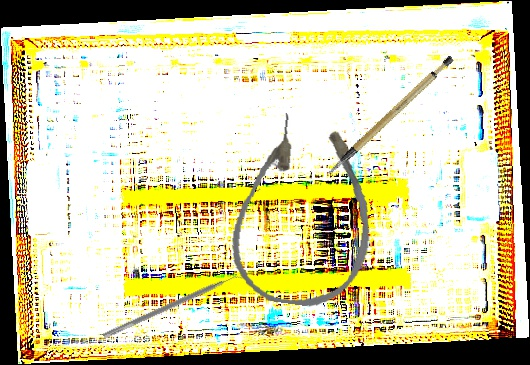Cannula: (224, 108, 386, 314)
Scalpel Handle: (311, 53, 467, 176)
Spatula Surgical: (102, 269, 245, 345)
